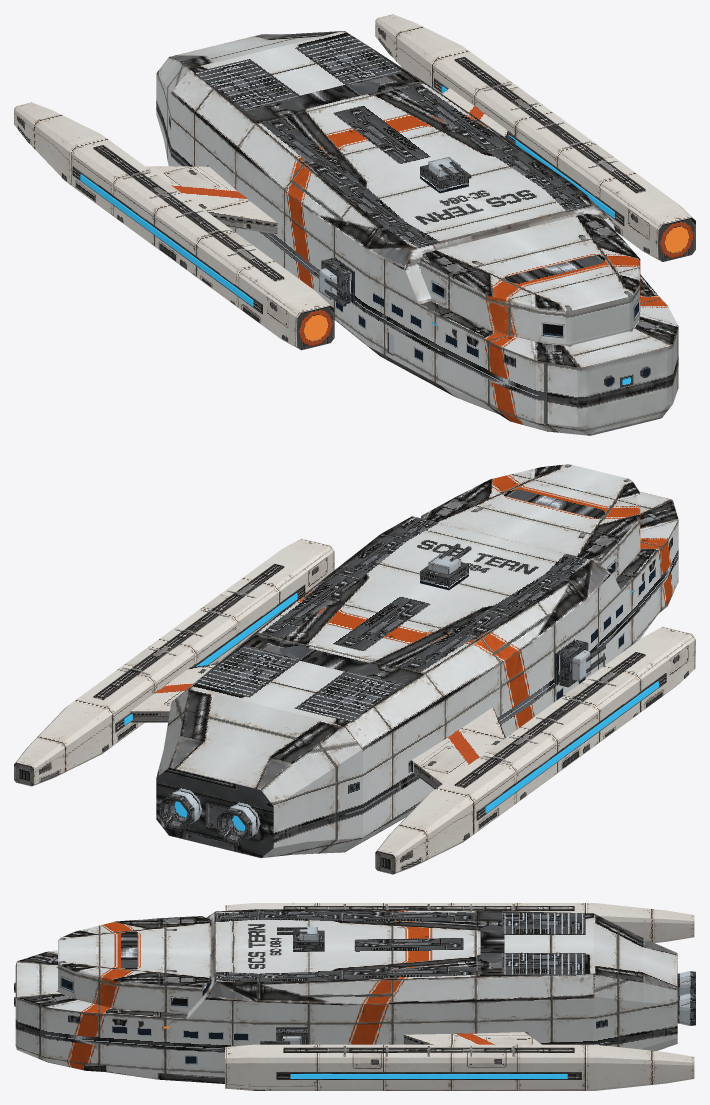
The model's file is tern_lod1.glb.
The picture shows the model from 3 angles, top to bottom: view 1: azimuth 30°, elevation 25°; view 2: azimuth 150°, elevation 25°; view 3: azimuth 270°, elevation 25°; orthographic projection. The views are drawn at different scales.
Parts seen in each view (by area): view 1: tern_lod1; view 2: tern_lod1; view 3: tern_lod1.
Boxes of the visible parts, bbox=[...] form: tern_lod1: bbox=[14, 14, 695, 435]; tern_lod1: bbox=[14, 464, 695, 874]; tern_lod1: bbox=[14, 903, 695, 1090].
Bounding box in the file's own units: 45 × 18.04 × 81.38.
1 material, 1 textured.
